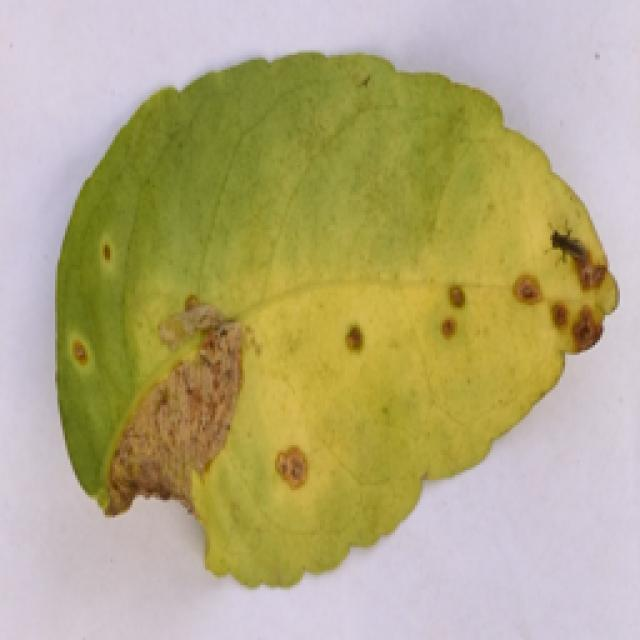canker: (61, 78, 613, 567)
